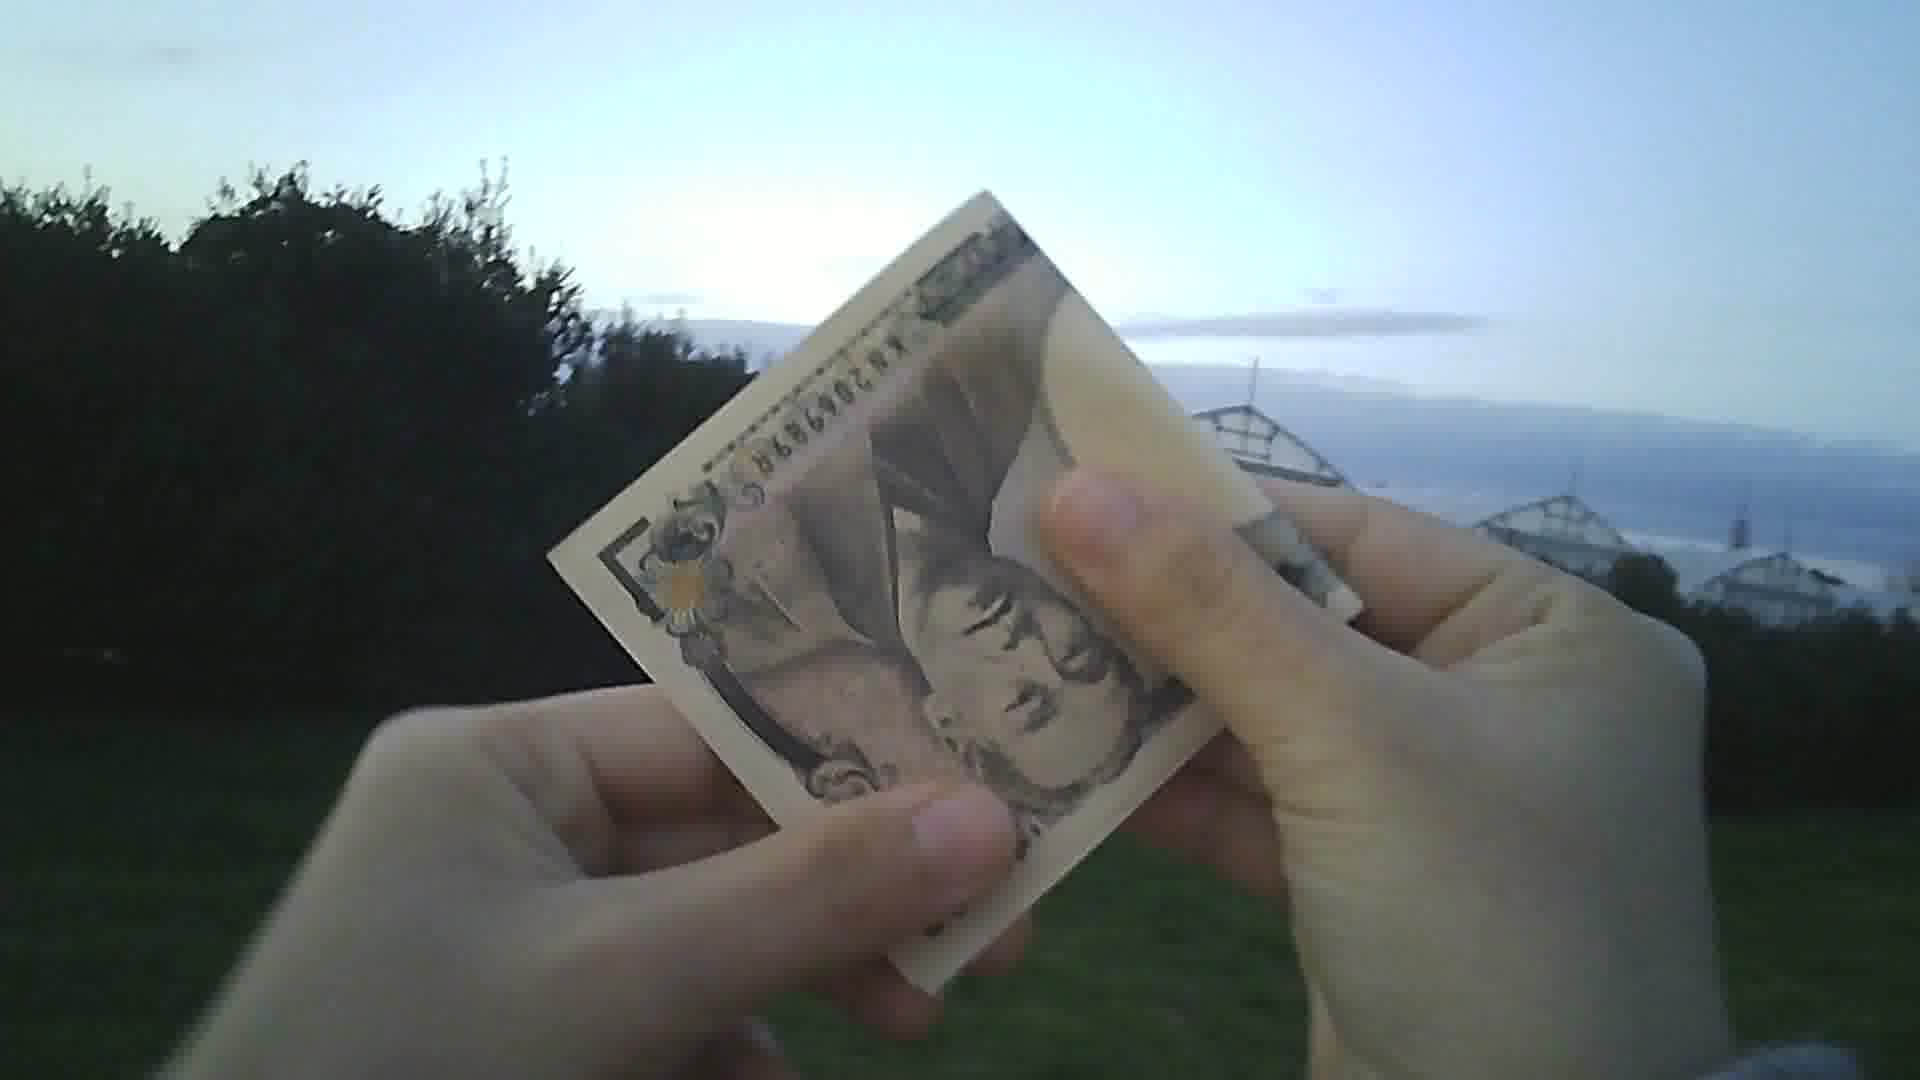10,000 Yen: (556, 196, 1370, 1005)
